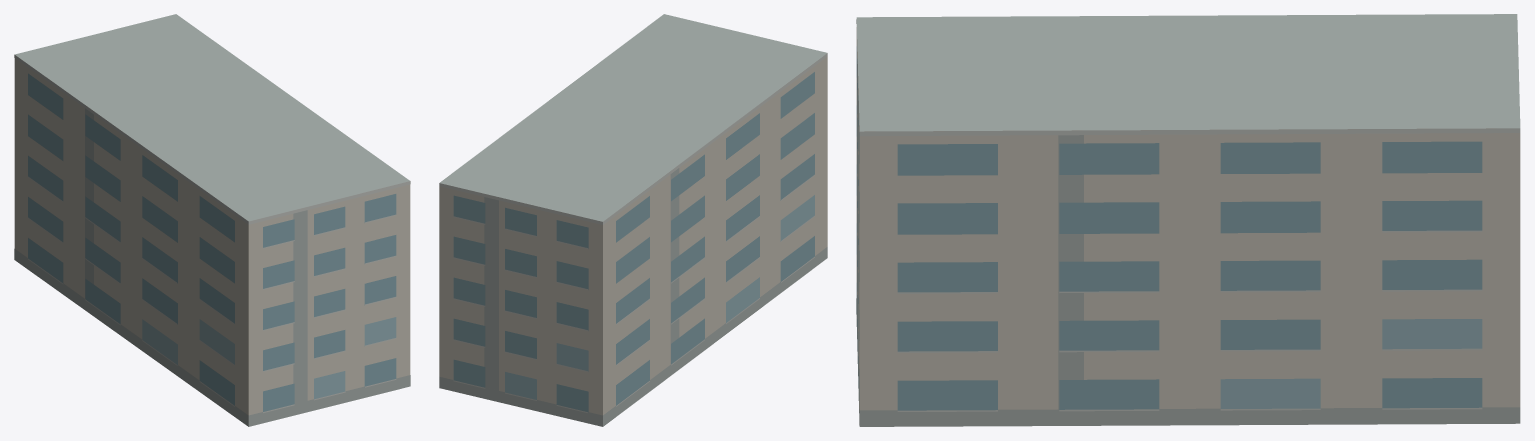
The model's file is residential-2fce7eb0-79e2-4aa7-b406-caeeeef10ec3.glb.
3 views of the same model, side by side, from view 1: azimuth 30°, elevation 25°; view 2: azimuth 150°, elevation 25°; view 3: azimuth 270°, elevation 25° (orthographic). The views are drawn at different scales.
Parts seen in each view (by area): view 1: residential-2fce7eb0-79e2-4aa7-b406-caeeeef10ec3.tmp; view 2: residential-2fce7eb0-79e2-4aa7-b406-caeeeef10ec3.tmp; view 3: residential-2fce7eb0-79e2-4aa7-b406-caeeeef10ec3.tmp.
Part boxes in pixels (box(x1,y1,x2,y2)): residential-2fce7eb0-79e2-4aa7-b406-caeeeef10ec3.tmp: box(14, 14, 410, 426); residential-2fce7eb0-79e2-4aa7-b406-caeeeef10ec3.tmp: box(439, 14, 827, 426); residential-2fce7eb0-79e2-4aa7-b406-caeeeef10ec3.tmp: box(856, 14, 1520, 426).
Size of the model in its own units: 13.02 by 15.25 by 31.07.
